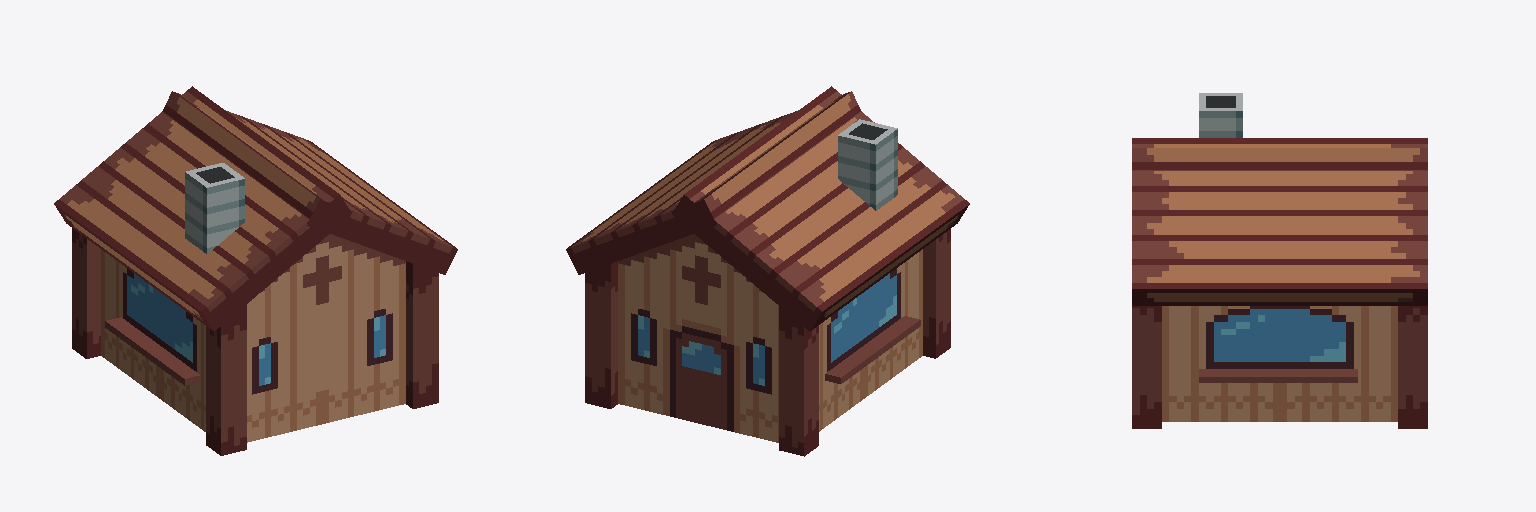
3 renders of one model, left to right at view 1: azimuth 30°, elevation 25°; view 2: azimuth 150°, elevation 25°; view 3: azimuth 270°, elevation 25°, orthographic.
Parts seen in each view (by area): view 1: cube; view 2: cube; view 3: cube.
Boxes of the visible parts, x1,y1,x2,y2 form: cube: [54, 86, 457, 455]; cube: [566, 86, 969, 456]; cube: [1132, 93, 1427, 428].
Size of the model in its own units: 2.51 by 2.23 by 2.5.
1 materials, 1 textured.